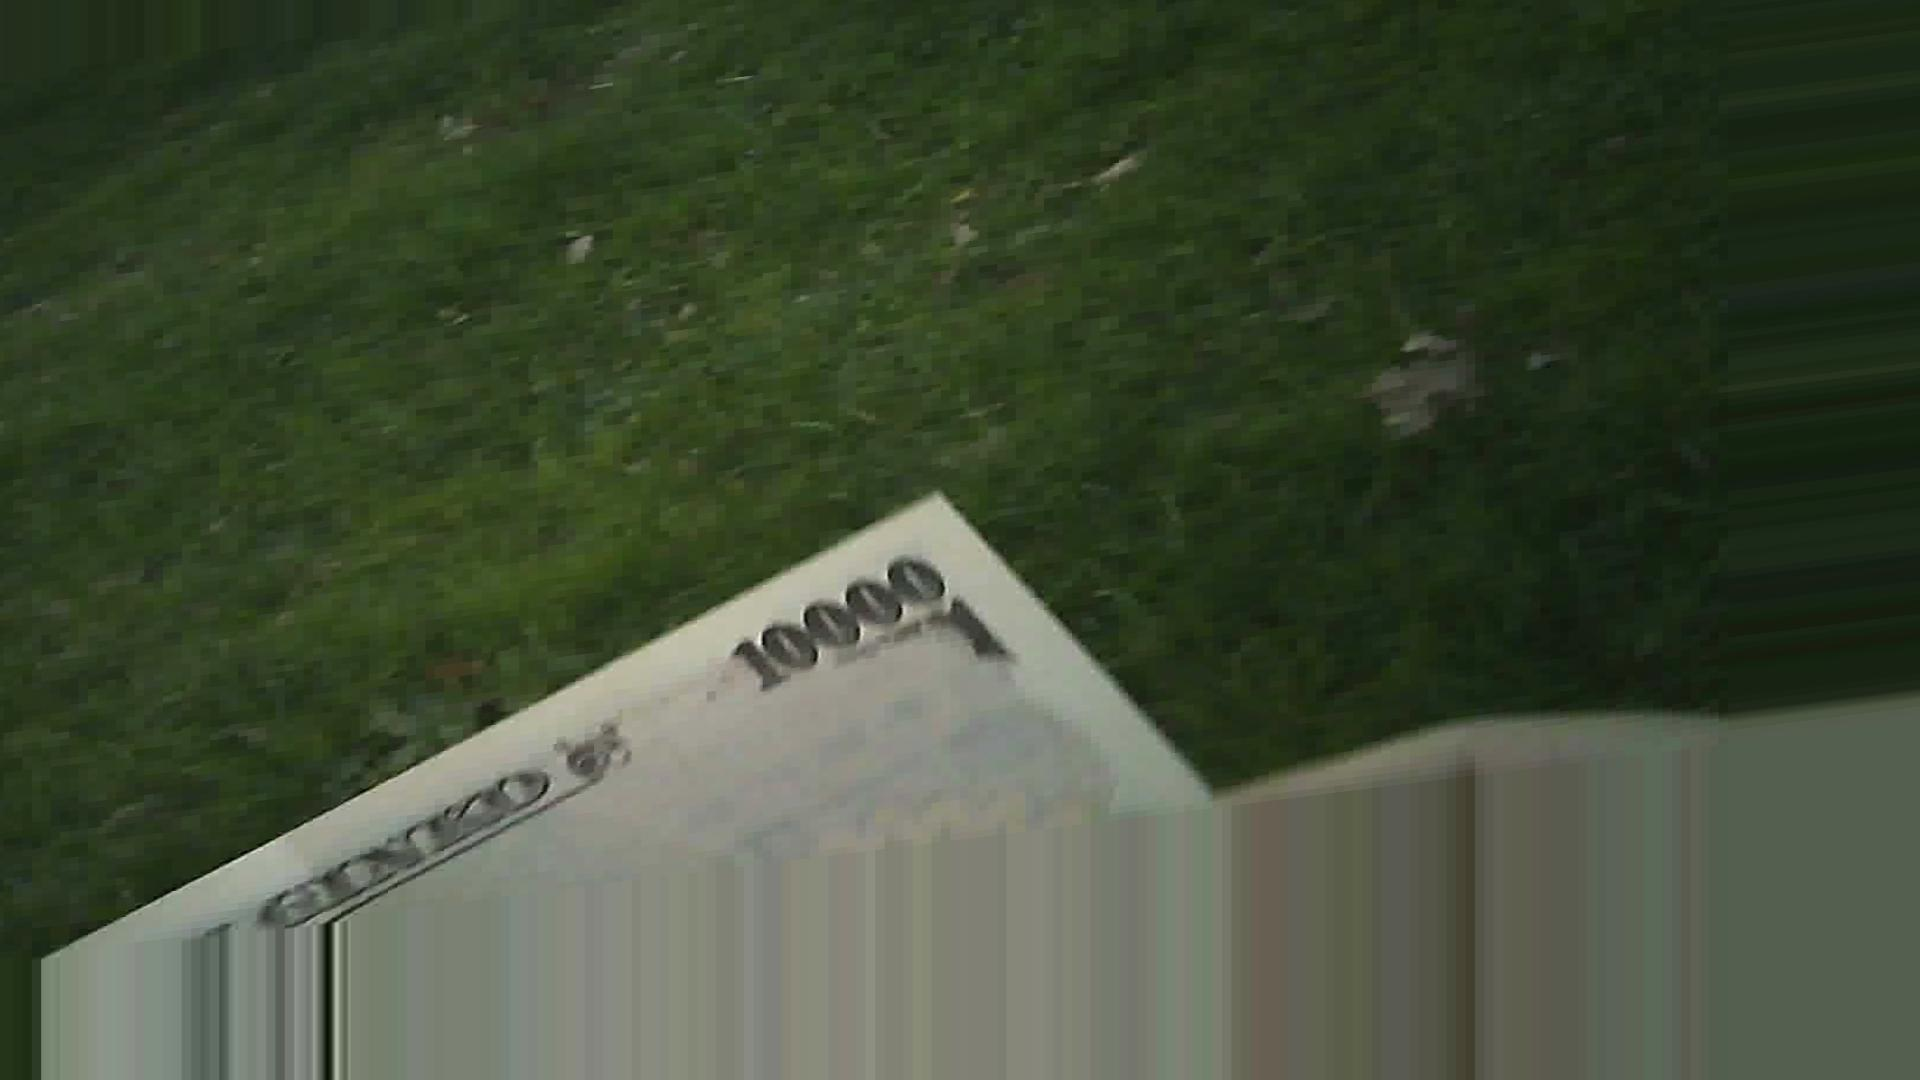10,000 Yen: (127, 433, 1348, 934)
